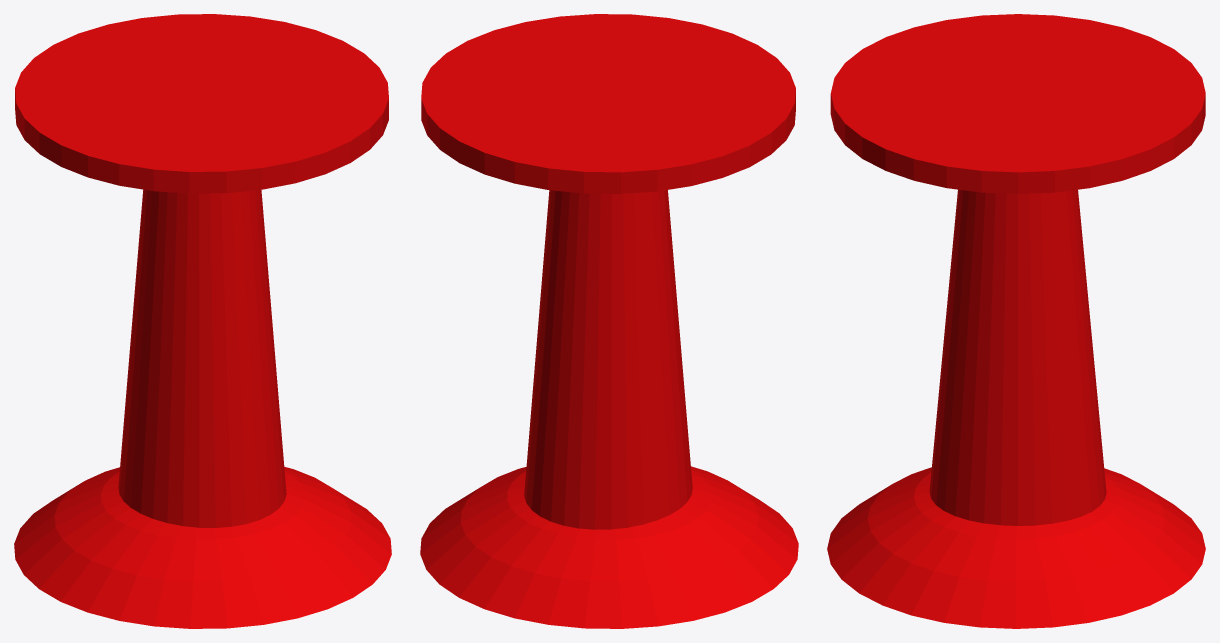
Rendered from hitmarker.fbx.
3 renders of one model, left to right at view 1: azimuth 30°, elevation 25°; view 2: azimuth 150°, elevation 25°; view 3: azimuth 270°, elevation 25°, orthographic.
Parts seen in each view (by area): view 1: Sphere; view 2: Sphere; view 3: Sphere.
Part boxes in pixels (left/top/right/bottom): Sphere: left=14, top=14, right=391, bottom=628; Sphere: left=420, top=14, right=798, bottom=628; Sphere: left=827, top=14, right=1205, bottom=628.
Bounding box in the file's own units: 141 × 188 × 141.
